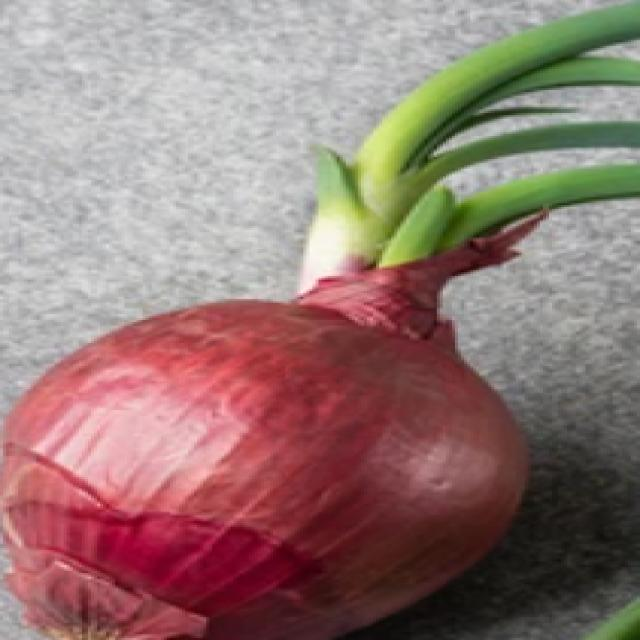sprouting: (334, 74, 476, 320)
